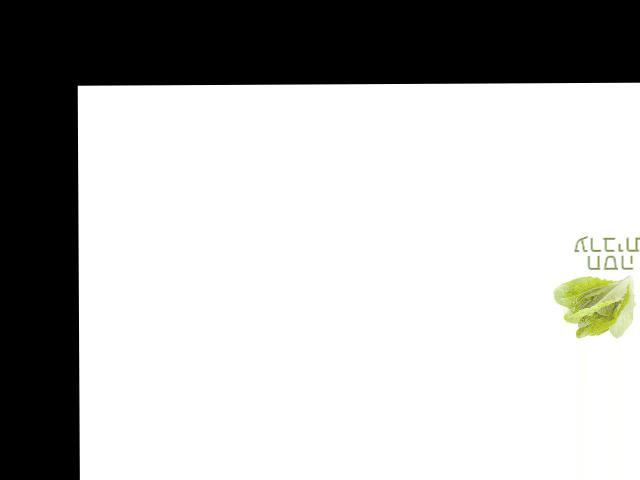lettuce: (552, 268, 640, 338)
